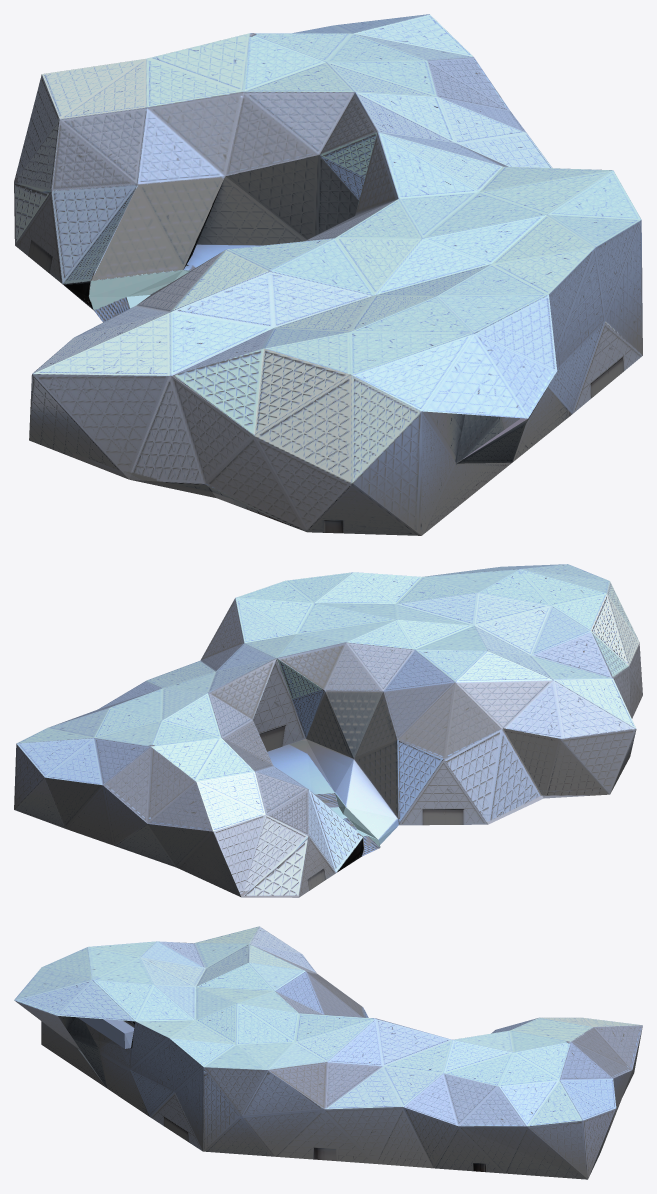
File: a01_placed1.glb
3 renders of one model, top to bottom at view 1: azimuth 30°, elevation 25°; view 2: azimuth 150°, elevation 25°; view 3: azimuth 270°, elevation 25°, orthographic. The views are drawn at different scales.
Parts seen in each view (by area): view 1: a01.001; view 2: a01.001; view 3: a01.001.
Boxes of the visible parts, left/top/right/bottom form: a01.001: left=14, top=14, right=642, bottom=535; a01.001: left=14, top=564, right=642, bottom=897; a01.001: left=14, top=926, right=642, bottom=1179.
Bounding box in the file's own units: 113 × 30.71 × 151.
1 material, 1 textured.
